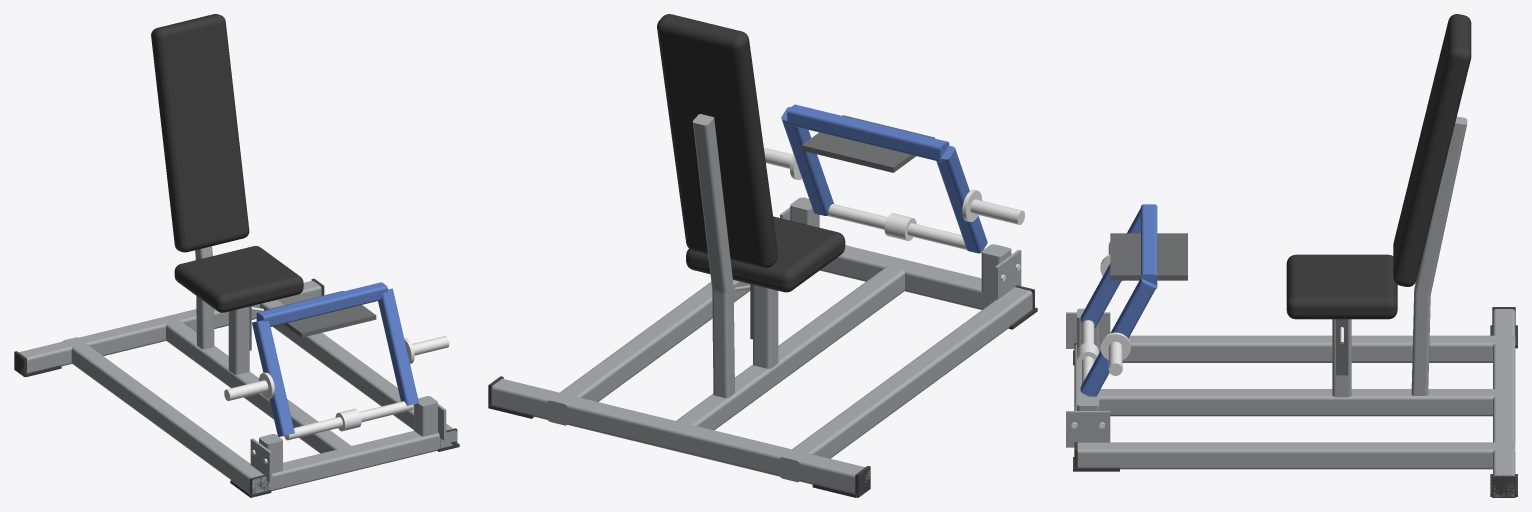
The picture shows the model from 3 angles, left to right: view 1: azimuth 30°, elevation 25°; view 2: azimuth 150°, elevation 25°; view 3: azimuth 270°, elevation 25°; orthographic projection. The views are drawn at different scales.
Visible parts, largest first — view 1: base, backrest_pad, seat_pad, lever_bar (×2), lever, lever_support, lever_foot_plate, seat_post, lever_horn (×2), lever_axle, backrest_support_tube, gusset; view 2: base, backrest_pad, backrest_support_tube, lever_support, seat_pad, lever_bar (×2), lever, lever_foot_plate, seat_post, lever_horn (×2), lever_axle, gusset (+1 smaller); view 3: base, backrest_pad, seat_pad, backrest_support_tube, lever_bar (×2), lever_foot_plate, gusset (×2), lever, lever_horn, seat_post, lever_support, seat_adjuster (+2 smaller).
Boxes of the visible parts, x1,y1,x2,y2 form: base: (15, 280, 456, 494); backrest_pad: (151, 14, 249, 252); seat_pad: (174, 246, 303, 312); lever_bar (×2): (252, 288, 418, 436); lever: (256, 282, 387, 326); lever_support: (259, 396, 437, 473); lever_foot_plate: (268, 291, 376, 337); seat_post: (228, 306, 249, 374); lever_horn (×2): (224, 336, 449, 400); lever_axle: (284, 401, 413, 440); backrest_support_tube: (195, 246, 214, 349); gusset: (250, 438, 272, 482); base: (491, 245, 1032, 495); backrest_pad: (657, 14, 778, 268); backrest_support_tube: (692, 114, 734, 398); lever_support: (790, 197, 1012, 309); seat_pad: (686, 216, 845, 292); lever_bar (×2): (781, 107, 987, 253); lever: (787, 104, 949, 162); lever_foot_plate: (801, 115, 934, 172); seat_post: (753, 284, 778, 368); lever_horn (×2): (764, 147, 1024, 224); lever_axle: (827, 204, 966, 249); gusset: (994, 249, 1021, 300); base: (1074, 309, 1515, 496); backrest_pad: (1393, 14, 1471, 286); seat_pad: (1286, 254, 1397, 319); backrest_support_tube: (1411, 116, 1467, 395); lever_bar (×2): (1080, 208, 1156, 396); lever_foot_plate: (1110, 233, 1187, 280); gusset (×2): (1066, 312, 1110, 447); lever: (1141, 204, 1157, 288); lever_horn: (1100, 332, 1130, 375); seat_post: (1332, 319, 1351, 397); lever_support: (1077, 308, 1099, 445); seat_adjuster: (1336, 319, 1348, 375).
Bounding box in the file's own units: 1.45 × 1.52 × 1.63.
